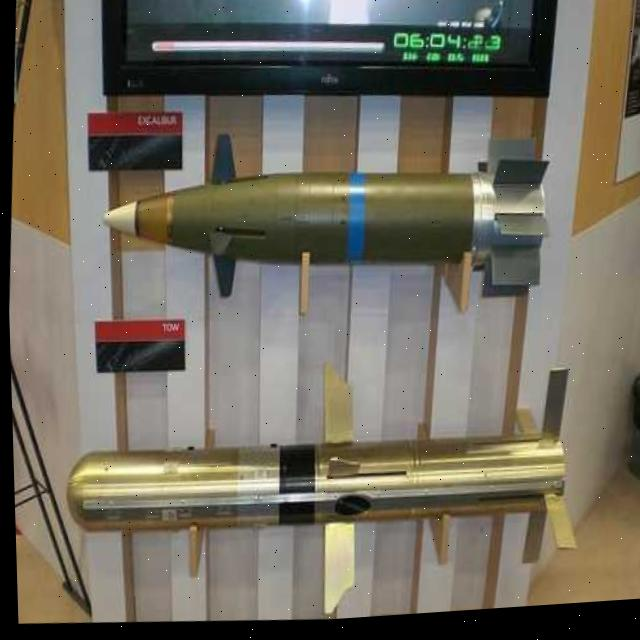missile: (55, 346, 583, 592), (100, 121, 547, 321)
